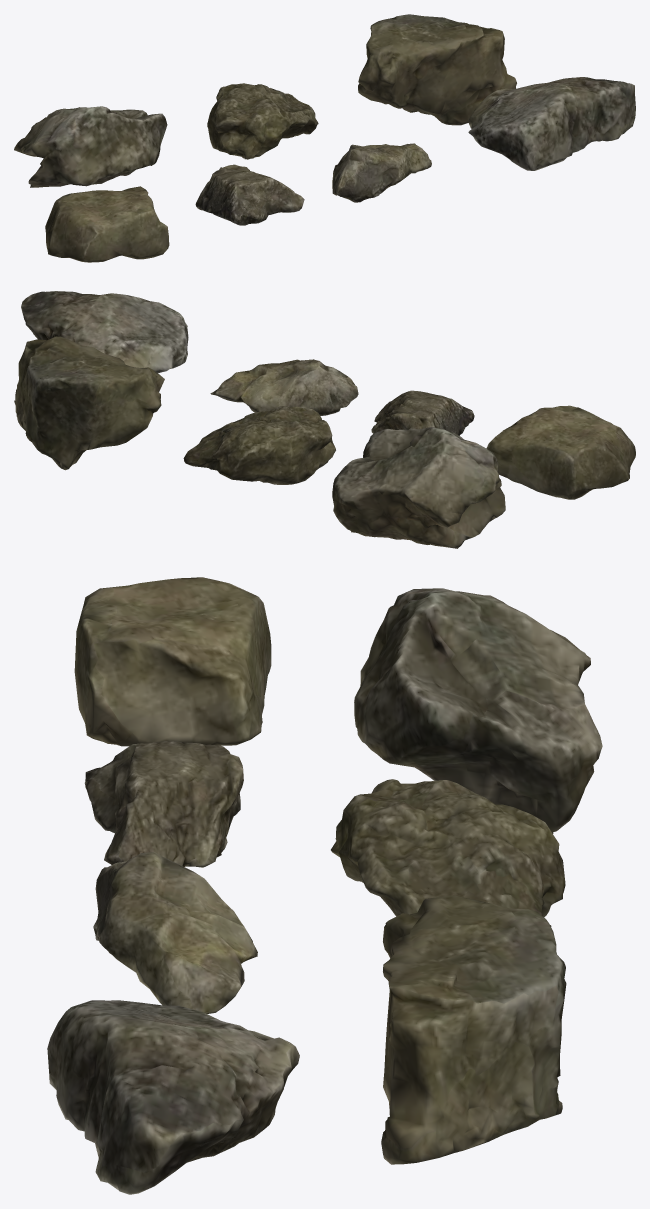
Rendered from rock-moss-set-optimized.glb.
3 views of the same model, one above another, from view 1: azimuth 30°, elevation 25°; view 2: azimuth 150°, elevation 25°; view 3: azimuth 270°, elevation 25° (orthographic). The views are drawn at different scales.
Parts seen in each view (by area): view 1: rock_moss_set_02_rock08; view 2: rock_moss_set_02_rock08; view 3: rock_moss_set_02_rock08.
Boxes of the visible parts, x1,y1,x2,y2 form: rock_moss_set_02_rock08: [14, 14, 635, 262]; rock_moss_set_02_rock08: [14, 291, 635, 548]; rock_moss_set_02_rock08: [47, 577, 602, 1194].
Bounding box in the file's own units: 8.28 × 1.37 × 3.41.
1 material, 1 textured.
